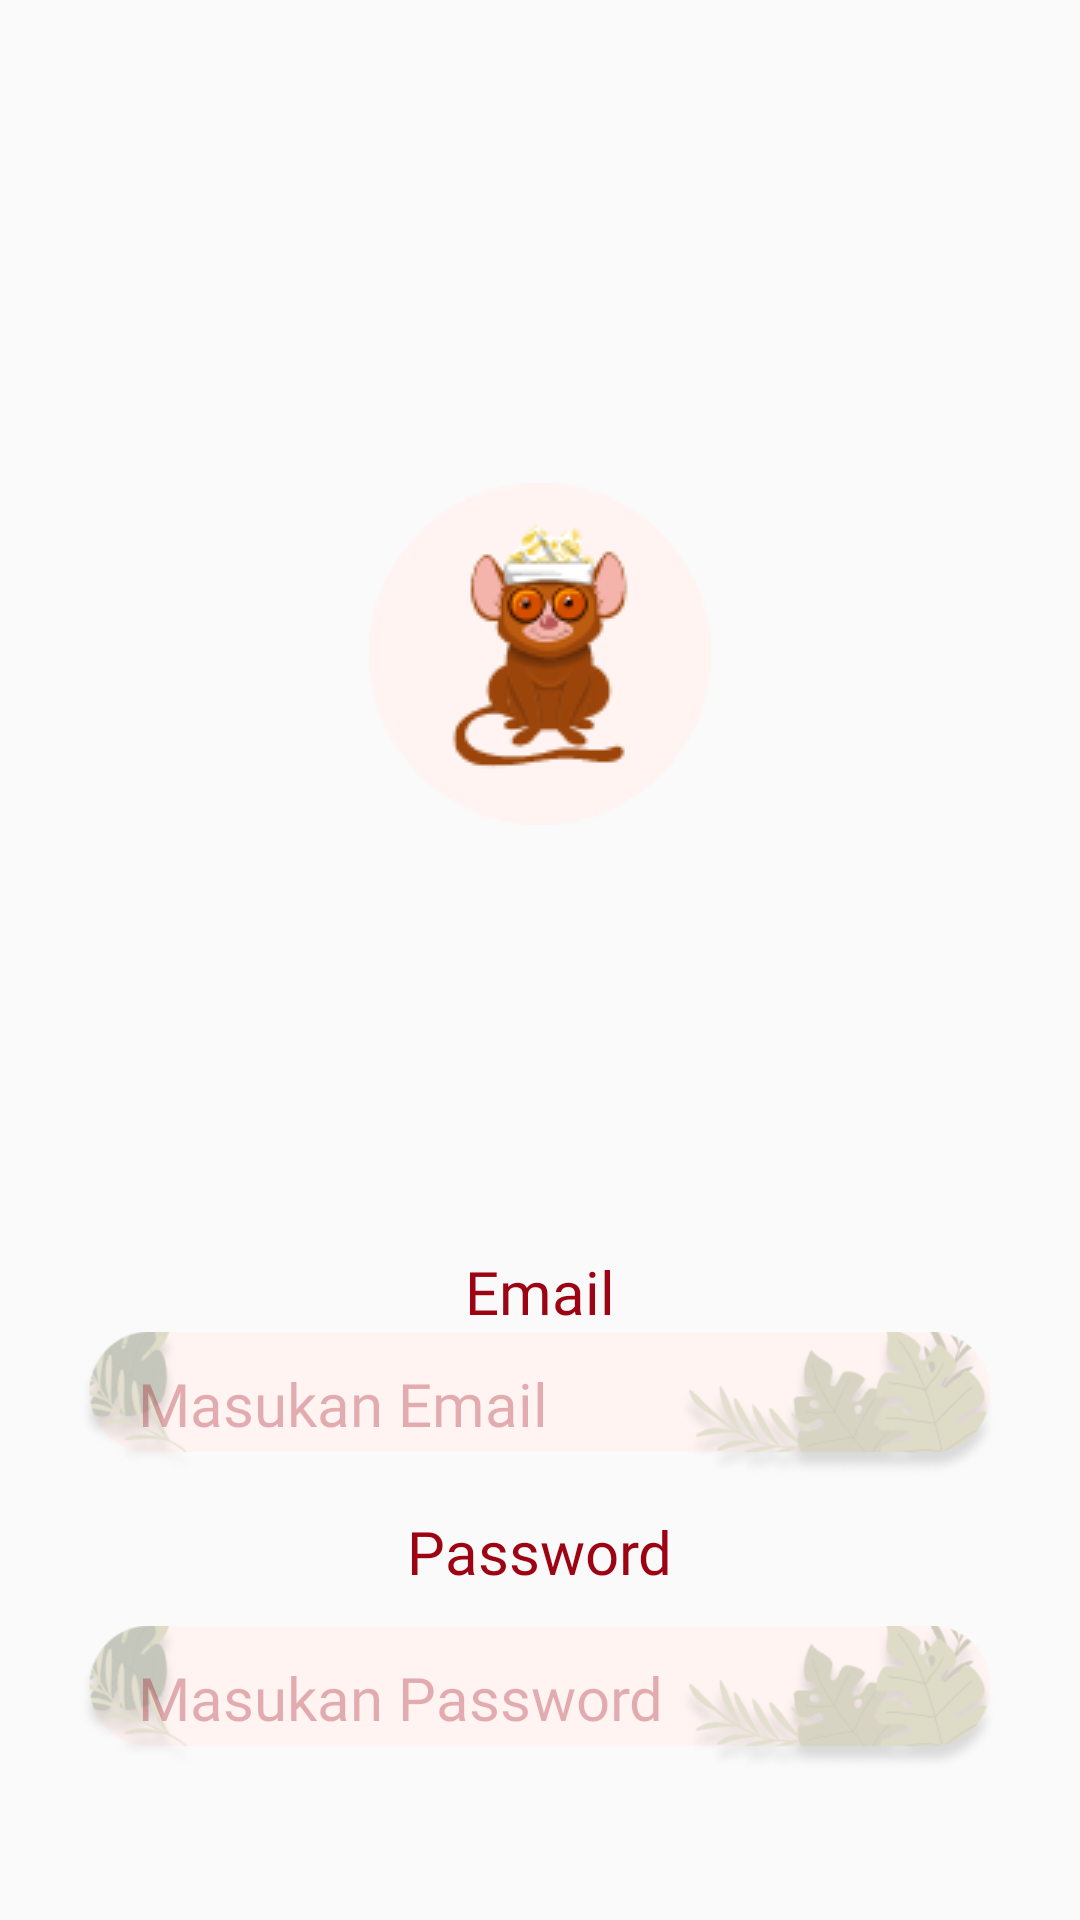

Icons on this 1080*1920 Android screen, each with the point to tap as (x=x, y=y):
tarsius: (x=540, y=646)
